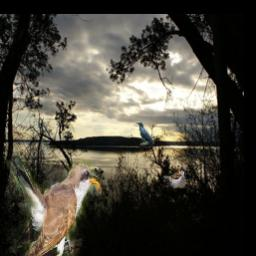Crow: (136, 123, 155, 147)
Cuckoo: (0, 128, 103, 256)
Sparrow: (164, 166, 187, 189)
